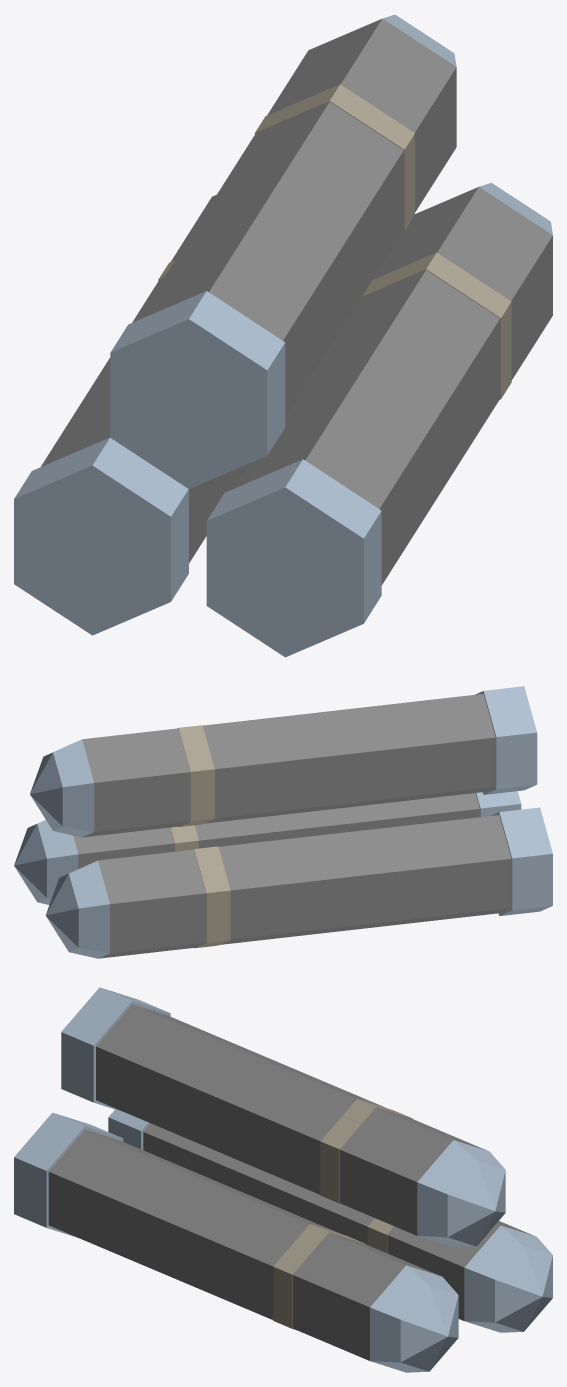
The model's file is ce_ammo2_tow_heat_c.obj.
The picture shows the model from 3 angles, top to bottom: view 1: azimuth 30°, elevation 25°; view 2: azimuth 150°, elevation 25°; view 3: azimuth 270°, elevation 25°; orthographic projection. The views are drawn at different scales.
Visible parts, largest first — view 1: ce_ammo2_tow_heat_c_13, ce_ammo2_tow_heat_c_7, ce_ammo2_tow_heat_c_6, ce_ammo2_tow_heat_c_12, ce_ammo2_tow_heat_c_0, ce_ammo2_tow_heat_c_15, ce_ammo2_tow_heat_c_9, ce_ammo2_tow_heat_c_1, ce_ammo2_tow_heat_c_14, ce_ammo2_tow_heat_c_8, ce_ammo2_tow_heat_c_16, ce_ammo2_tow_heat_c_10; view 2: ce_ammo2_tow_heat_c_1, ce_ammo2_tow_heat_c_13, ce_ammo2_tow_heat_c_15, ce_ammo2_tow_heat_c_3, ce_ammo2_tow_heat_c_7, ce_ammo2_tow_heat_c_12, ce_ammo2_tow_heat_c_0, ce_ammo2_tow_heat_c_16, ce_ammo2_tow_heat_c_4, ce_ammo2_tow_heat_c_9, ce_ammo2_tow_heat_c_2, ce_ammo2_tow_heat_c_14 (+6 smaller); view 3: ce_ammo2_tow_heat_c_7, ce_ammo2_tow_heat_c_13, ce_ammo2_tow_heat_c_15, ce_ammo2_tow_heat_c_9, ce_ammo2_tow_heat_c_1, ce_ammo2_tow_heat_c_6, ce_ammo2_tow_heat_c_12, ce_ammo2_tow_heat_c_4, ce_ammo2_tow_heat_c_10, ce_ammo2_tow_heat_c_16, ce_ammo2_tow_heat_c_11, ce_ammo2_tow_heat_c_17 (+6 smaller).
Boxes of the visible parts, x1,y1,x2,y2 form: ce_ammo2_tow_heat_c_13: (137,101,403,416); ce_ammo2_tow_heat_c_7: (233,270,500,585); ce_ammo2_tow_heat_c_6: (206,459,381,657); ce_ammo2_tow_heat_c_12: (110,291,285,488); ce_ammo2_tow_heat_c_0: (14,437,188,635); ce_ammo2_tow_heat_c_15: (267,18,456,212); ce_ammo2_tow_heat_c_9: (372,187,552,380); ce_ammo2_tow_heat_c_1: (41,278,249,563); ce_ammo2_tow_heat_c_14: (255,84,414,231); ce_ammo2_tow_heat_c_8: (361,252,511,399); ce_ammo2_tow_heat_c_16: (383,14,456,66); ce_ammo2_tow_heat_c_10: (479,183,552,234); ce_ammo2_tow_heat_c_1: (218,815,511,944); ce_ammo2_tow_heat_c_13: (203,694,495,823); ce_ammo2_tow_heat_c_15: (82,728,190,837); ce_ammo2_tow_heat_c_3: (98,849,206,958); ce_ammo2_tow_heat_c_7: (195,793,479,848); ce_ammo2_tow_heat_c_12: (475,686,537,794); ce_ammo2_tow_heat_c_0: (491,807,552,916); ce_ammo2_tow_heat_c_16: (53,739,94,837); ce_ammo2_tow_heat_c_4: (69,860,109,958); ce_ammo2_tow_heat_c_9: (73,827,174,868); ce_ammo2_tow_heat_c_2: (193,846,230,948); ce_ammo2_tow_heat_c_14: (177,725,214,826); ce_ammo2_tow_heat_c_7: (48,1129,339,1319); ce_ammo2_tow_heat_c_13: (96,1004,385,1194); ce_ammo2_tow_heat_c_15: (340,1107,487,1235); ce_ammo2_tow_heat_c_9: (293,1232,439,1360); ce_ammo2_tow_heat_c_1: (143,1123,374,1244); ce_ammo2_tow_heat_c_6: (14,1112,123,1237); ce_ammo2_tow_heat_c_12: (61,987,170,1112); ce_ammo2_tow_heat_c_4: (464,1225,552,1332); ce_ammo2_tow_heat_c_10: (370,1265,457,1372); ce_ammo2_tow_heat_c_16: (417,1140,505,1247); ce_ammo2_tow_heat_c_11: (400,1286,458,1371); ce_ammo2_tow_heat_c_17: (447,1161,505,1246).
Bounding box in the file's own units: 0.8186 × 0.3672 × 0.8186.
